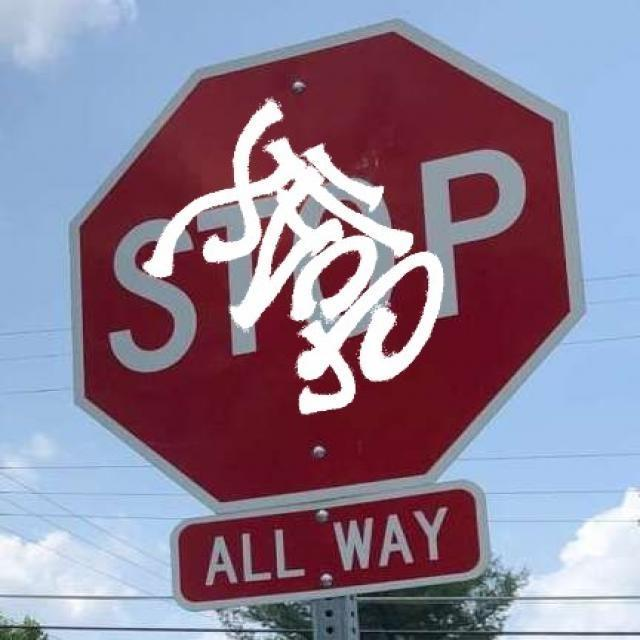Stop-Sign: (70, 38, 571, 496)
